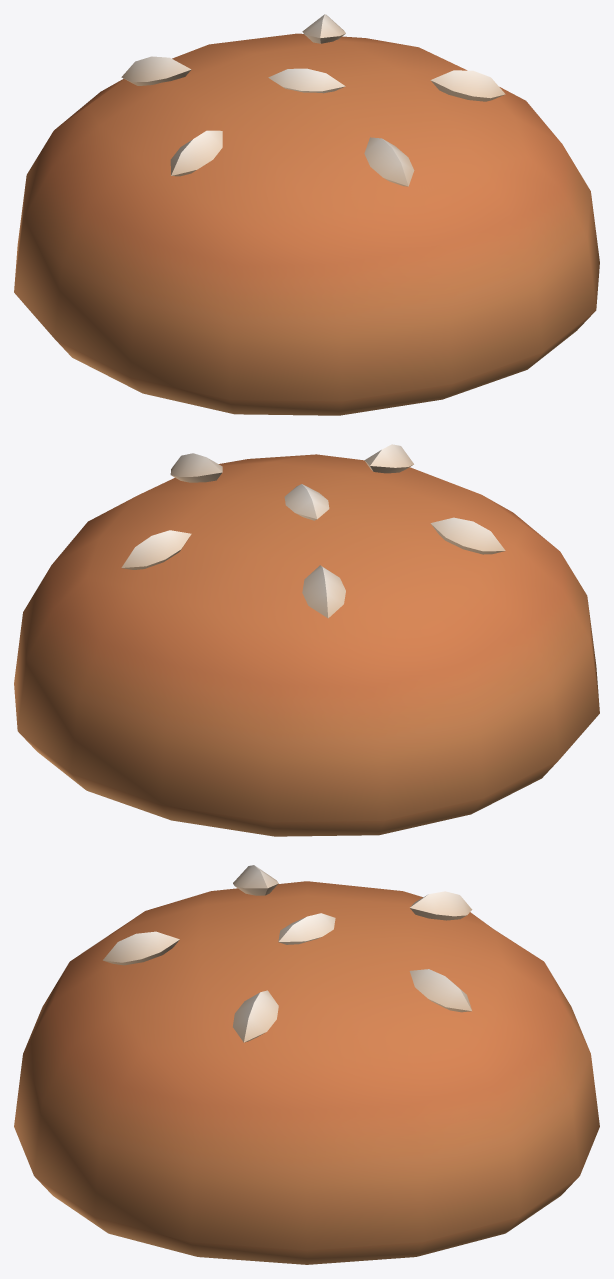
The model's file is kay-food_ingredient_bun_top.glb.
The picture shows the model from 3 angles, top to bottom: view 1: azimuth 30°, elevation 25°; view 2: azimuth 150°, elevation 25°; view 3: azimuth 270°, elevation 25°; orthographic projection.
Visible parts, largest first — view 1: food_ingredient_bun_top; view 2: food_ingredient_bun_top; view 3: food_ingredient_bun_top.
Boxes of the visible parts, x1,y1,x2,y2 form: food_ingredient_bun_top: [14, 14, 599, 415]; food_ingredient_bun_top: [14, 444, 599, 836]; food_ingredient_bun_top: [14, 865, 599, 1264].
Bounding box in the file's own units: 0.22 × 0.0965 × 0.22.
1 material, 1 textured.
